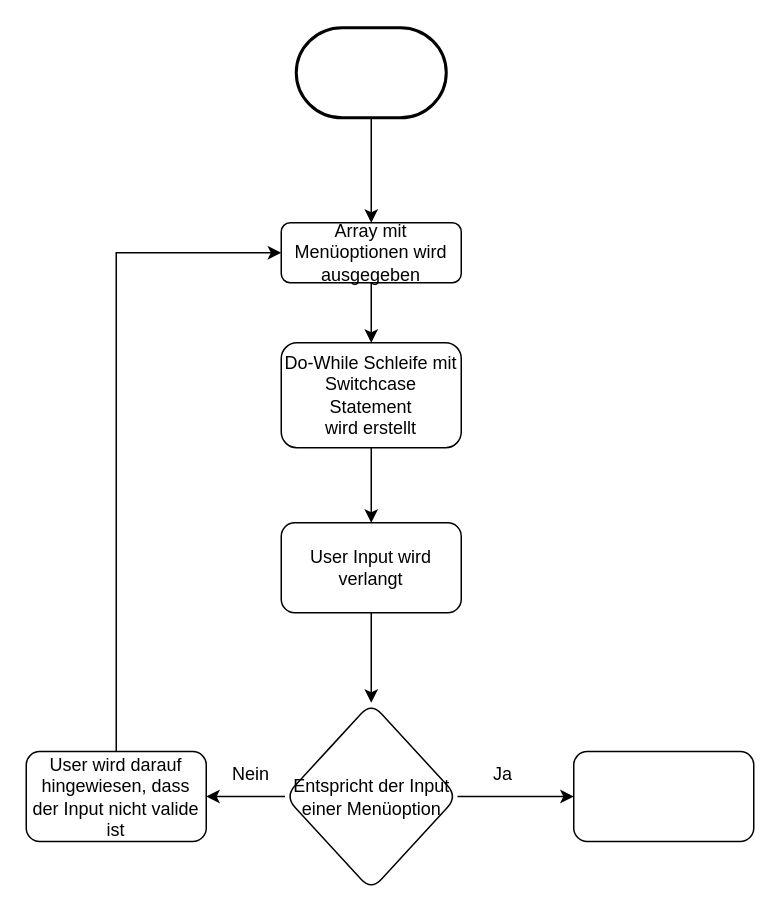
Some shapes in this 780 by 917 pixel diagram are drawn without their labels. Here are the shapes that lost their labels. From the top down, the centre of each, then its label:
At pixel 370 72: "Start".
At pixel 663 796: "Skript führt den entsprechenden Menüpunkt aus".
